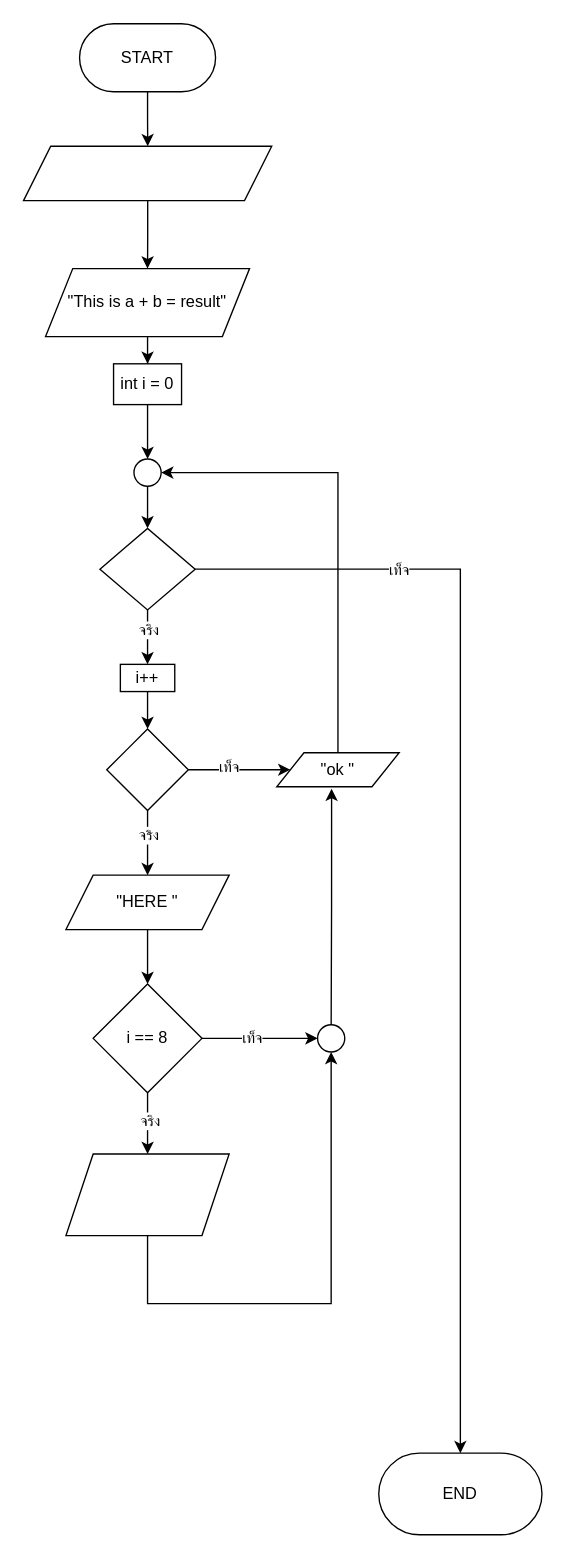
This 567x1559 diagram has some shape labels left out. The box of each missing label's shape, as (x1, y1, x2, y2) in pixels:
"This is 8. ": (65, 1153, 229, 1236)
a = 10, b = 20, c = 30, d = 40: (22, 145, 272, 201)
i < c: (105, 728, 188, 811)
i < d - c: (99, 527, 195, 610)
